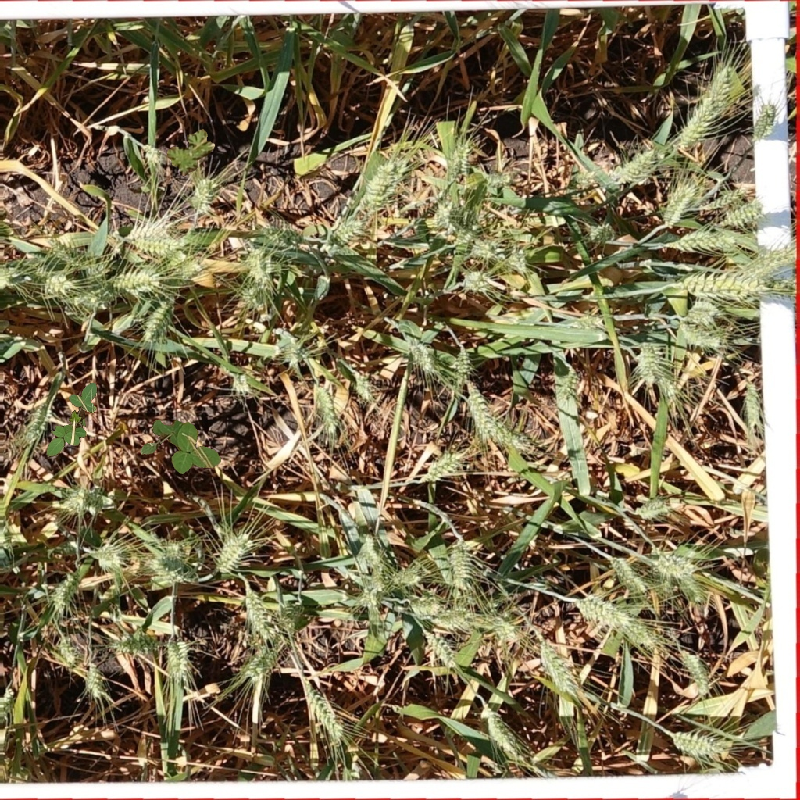spikelet: (669, 58, 739, 153), (572, 590, 662, 651), (669, 265, 775, 300), (359, 152, 410, 214), (302, 681, 348, 745), (536, 637, 581, 698), (478, 704, 525, 761), (122, 214, 184, 257), (668, 724, 735, 762), (656, 174, 701, 229), (609, 143, 661, 189), (671, 224, 742, 256), (47, 232, 102, 272), (147, 544, 200, 585), (105, 262, 163, 298), (213, 527, 256, 575), (676, 647, 716, 698), (675, 318, 731, 354), (632, 338, 671, 389), (439, 539, 476, 591), (241, 585, 276, 639), (322, 212, 368, 252), (58, 483, 113, 516), (139, 296, 176, 345), (737, 378, 767, 436), (185, 171, 224, 215), (422, 447, 468, 484), (428, 197, 470, 237), (719, 195, 769, 228), (465, 386, 495, 441), (240, 642, 278, 685), (432, 601, 482, 633), (748, 95, 781, 143), (312, 382, 341, 436), (609, 554, 648, 594), (422, 628, 460, 669), (259, 218, 304, 252), (485, 418, 530, 452), (650, 548, 697, 580), (22, 397, 53, 445), (442, 135, 475, 180), (163, 636, 194, 683), (36, 266, 77, 301), (63, 286, 105, 320), (110, 629, 160, 657), (48, 571, 81, 613), (681, 295, 724, 327), (241, 244, 274, 284), (405, 588, 445, 620), (274, 329, 307, 367), (467, 234, 507, 264), (487, 610, 522, 644), (552, 365, 581, 405), (92, 541, 127, 574), (388, 559, 425, 590), (354, 532, 383, 571), (406, 339, 438, 374), (707, 184, 745, 213), (82, 661, 110, 700), (634, 494, 672, 521), (449, 345, 474, 386), (54, 633, 82, 669), (459, 268, 496, 295), (352, 371, 378, 405), (504, 244, 532, 274), (585, 219, 616, 245), (1, 519, 25, 552), (139, 141, 166, 170), (229, 371, 254, 396), (1, 688, 14, 723)
weed: (46, 377, 101, 464), (147, 418, 222, 476), (167, 129, 215, 176)
